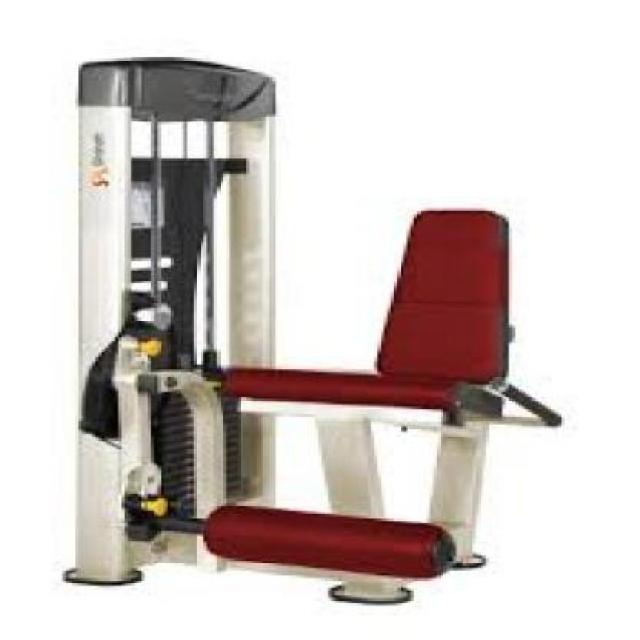leg extension: (51, 47, 584, 618)
